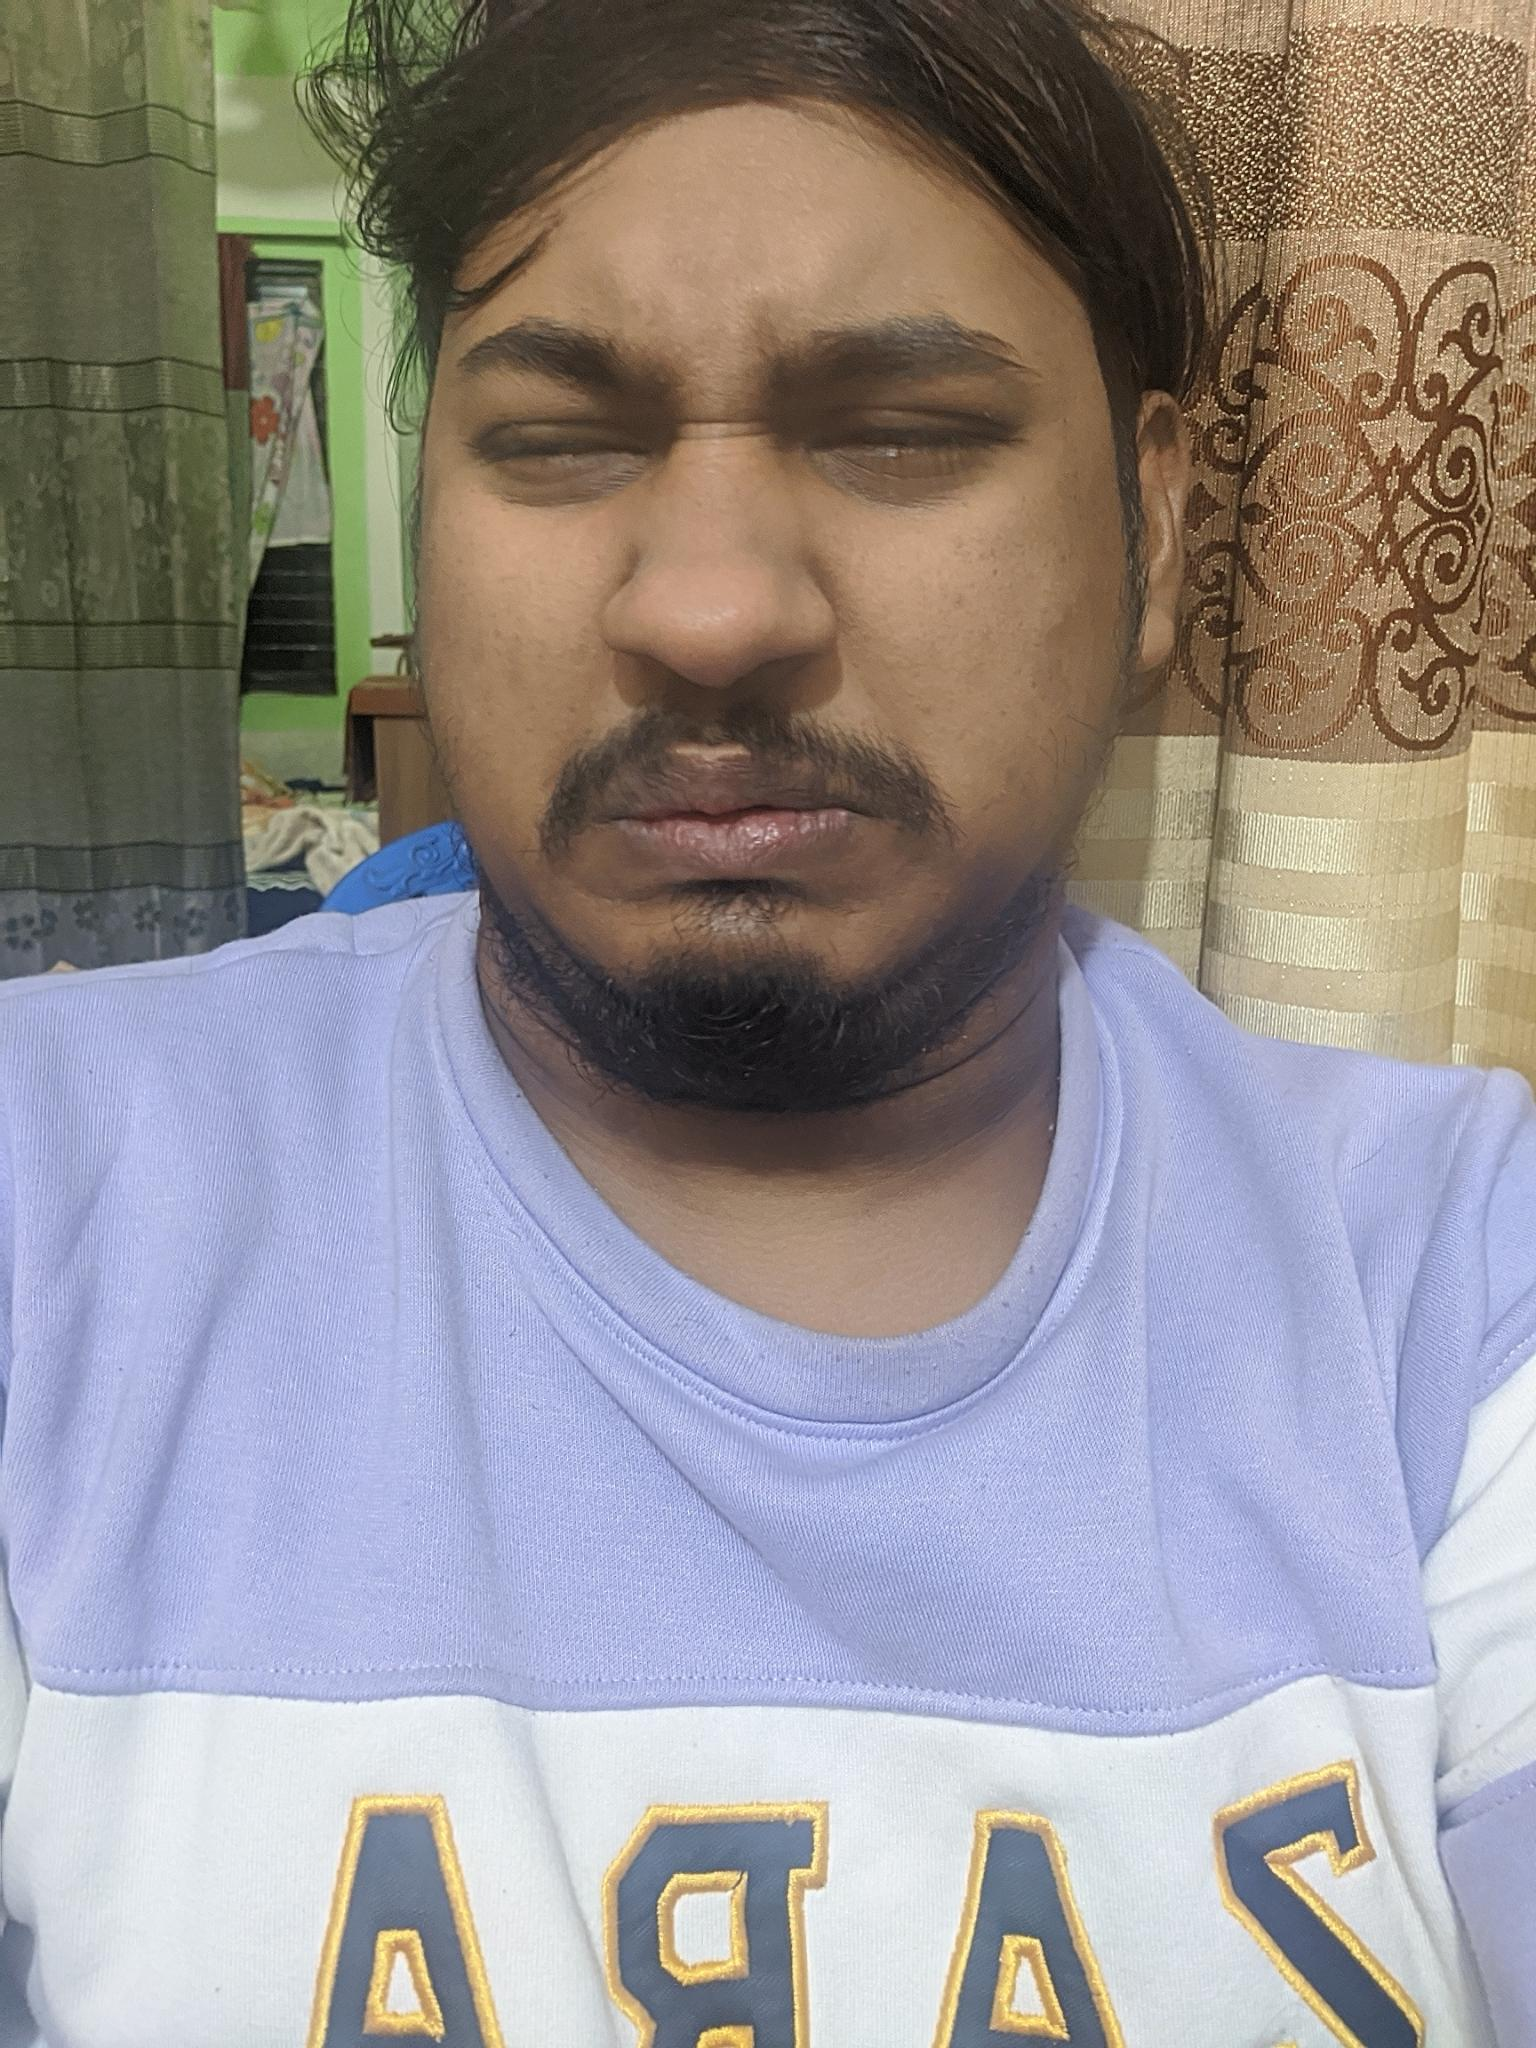Disgust: (432, 185, 1079, 1048)
